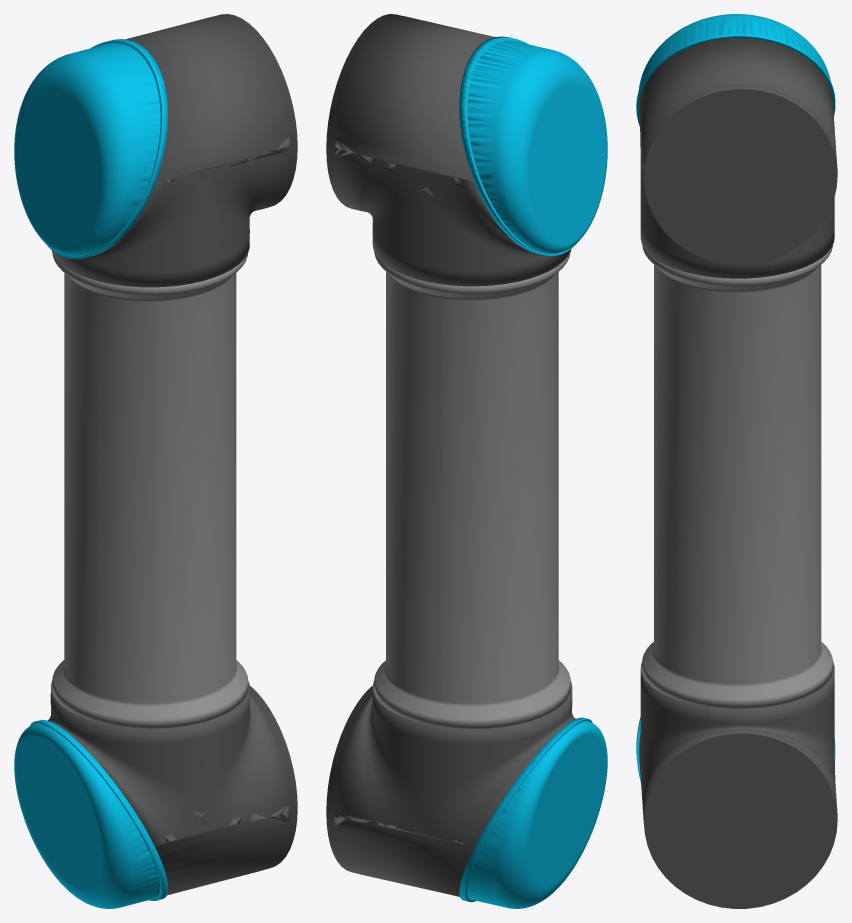
The picture shows the model from 3 angles, left to right: view 1: azimuth 30°, elevation 25°; view 2: azimuth 150°, elevation 25°; view 3: azimuth 270°, elevation 25°; orthographic projection. The views are drawn at different scales.
Parts seen in each view (by area): view 1: link2_1; view 2: link2_1; view 3: link2_1.
Part boxes in pixels (x1,y1,x2,y2): link2_1: (14, 14, 297, 908); link2_1: (326, 14, 607, 908); link2_1: (636, 14, 837, 908).
Size of the model in its own units: 0.1355 by 0.544 by 0.1203.
